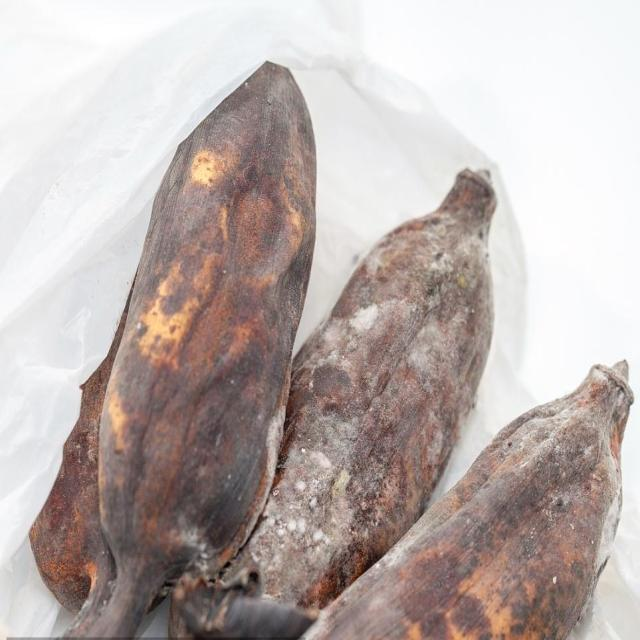Wet: (27, 60, 635, 639)
